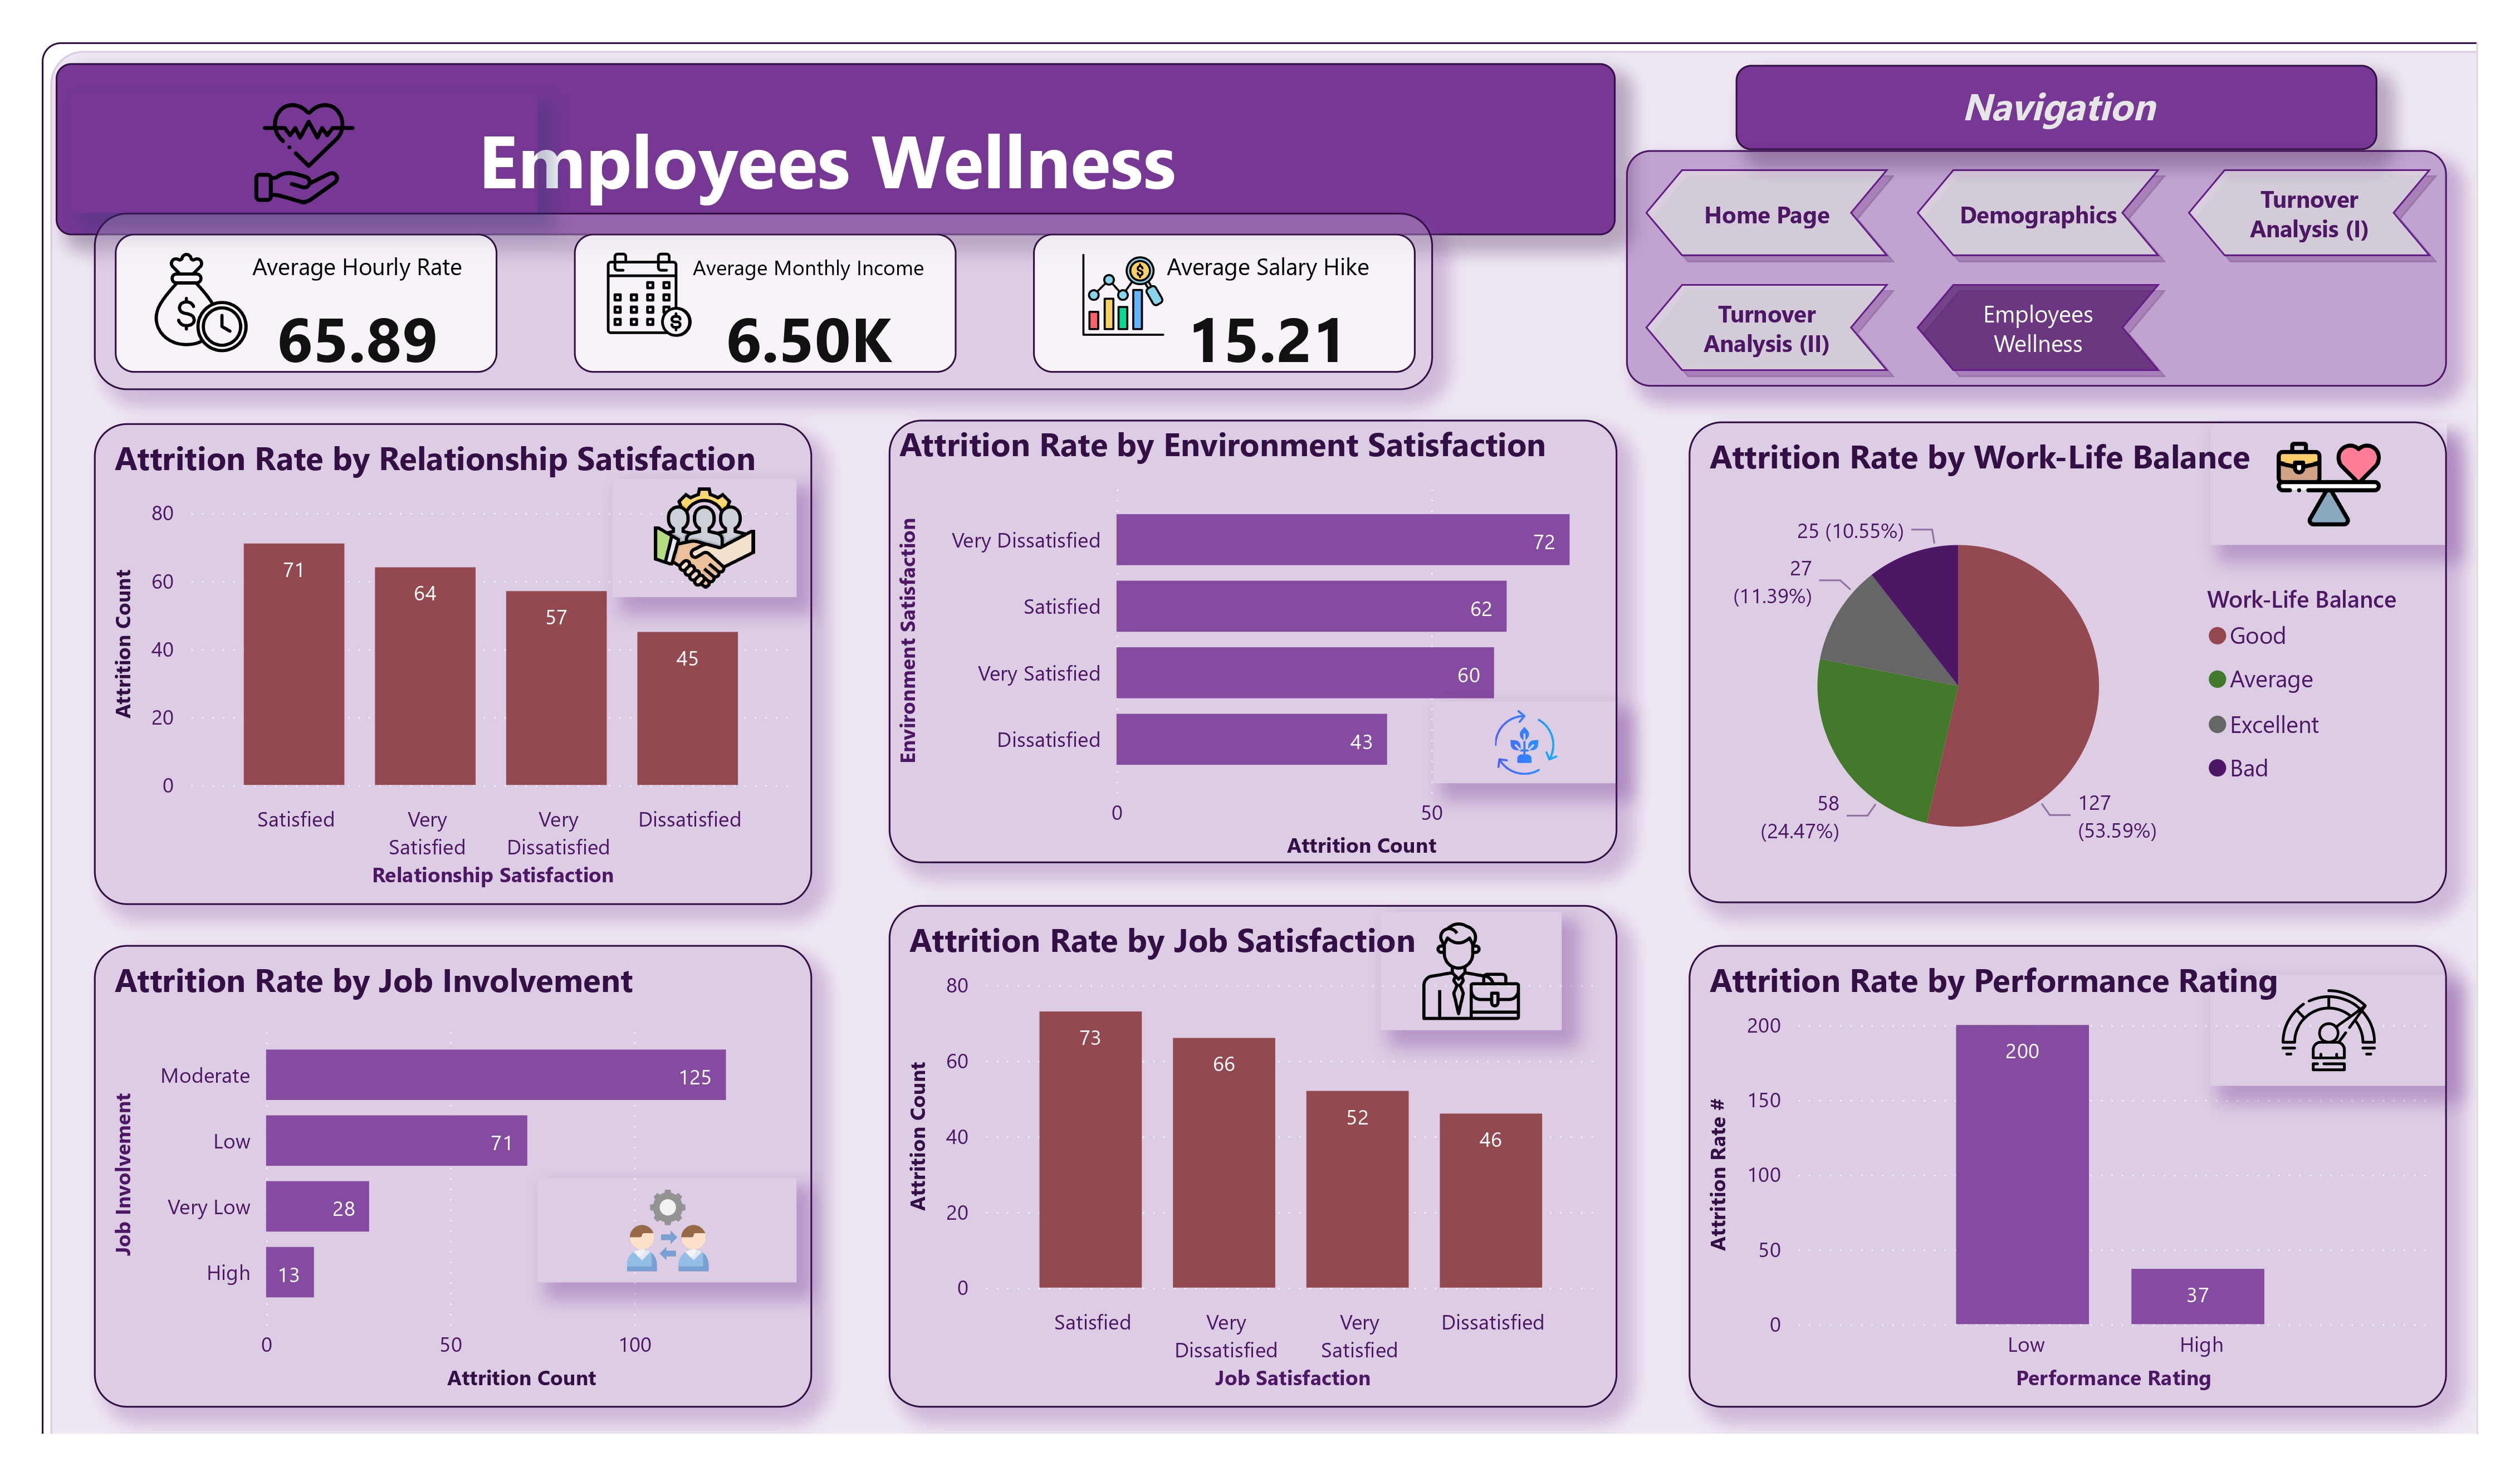

The dashboard page shown, as its layout file describes it:
{"tool":"powerbi","page":{"name":"Employees Wellness","canvas":[1400,800],"ordinal":5},"visuals":[{"type":"shape","box":[0,0,1450.5,850.5],"z":0},{"type":"textbox","box":[8,11.9,897.1,99.5],"z":1000},{"type":"pageNavigator","box":[910.6,61.7,472.3,136.2],"z":2000},{"type":"cardVisual","fields":{"Data":["HR-Employee-Attrition.Average Hourly Rate","HR-Employee-Attrition.Average Monthly Income","HR-Employee-Attrition.Average Salary Hike"]},"box":[29.8,97.9,770.2,102.1],"z":3000},{"type":"image","box":[17,29.8,268.1,68.1],"z":4000},{"type":"clusteredColumnChart","title":"Attrition Rate by Relationship Satisfaction","fields":{"Y":["HR-Employee-Attrition.Attrition Rate #"],"Category":["HR-Employee-Attrition.RelationshipSatisfaction (groups)"]},"box":[29.8,219.1,412.8,276.6],"z":5000},{"type":"clusteredBarChart","title":"Attrition Rate by Job Involvement","fields":{"Category":["HR-Employee-Attrition.JobInvolvement (groups)"],"Y":["HR-Employee-Attrition.Attrition Rate #"]},"box":[29.8,519.1,412.8,266],"z":6000},{"type":"columnChart","title":"Attrition Rate by Job Satisfaction","fields":{"Y":["HR-Employee-Attrition.Attrition Rate #"],"Category":["HR-Employee-Attrition.JobSatisfaction (groups)"]},"box":[487.2,495.7,419.1,289.4],"z":7000},{"type":"clusteredBarChart","title":"Attrition Rate by Environment Satisfaction","fields":{"Category":["HR-Employee-Attrition.EnvironmentSatisfaction (groups)"],"Y":["HR-Employee-Attrition.Attrition Rate #"]},"box":[487.2,217,419.1,255.3],"z":8000},{"type":"pieChart","title":"Attrition Rate by Work-Life Balance","fields":{"Category":["HR-Employee-Attrition.WorkLifeBalance (groups)"],"Y":["HR-Employee-Attrition.Attrition Rate #"]},"box":[946.7,218.3,436.7,276.7],"z":9000},{"type":"columnChart","title":"Attrition Rate by Performance Rating","fields":{"Category":["HR-Employee-Attrition.PerformanceRating (groups)"],"Y":["HR-Employee-Attrition.Attrition Rate #"]},"box":[946.8,519.1,436.2,266],"z":10000},{"type":"image","box":[327.7,251.1,106.4,68.1],"z":11000},{"type":"image","box":[800,378.7,106.4,46.8],"z":12000},{"type":"image","box":[1246.8,219.1,136.2,70.2],"z":13000},{"type":"image","box":[1246.8,536.2,136.2,63.8],"z":14000},{"type":"image","box":[285.1,653.2,148.9,59.6],"z":15000},{"type":"image","box":[770.2,500,104.3,68.1],"z":16000},{"type":"textbox","box":[974.5,12.8,368.1,48.9],"z":17000}]}

Visuals, with their boxes on the page's 1400x800 design canvas (x1, y1, x2, y2). These are canvas units, not pixel positions in the 2520x1476 screenshot, which may show the page scaled, cropped or inside an application window:
shape: <region>0, 0, 1450, 850</region>
textbox: <region>8, 12, 905, 111</region>
pageNavigator: <region>911, 62, 1383, 198</region>
cardVisual - HR-Employee-Attrition.Average Hourly Rate x HR-Employee-Attrition.Average Monthly Income: <region>30, 98, 800, 200</region>
image: <region>17, 30, 285, 98</region>
"Attrition Rate by Relationship Satisfaction" clusteredColumnChart: <region>30, 219, 443, 496</region>
"Attrition Rate by Job Involvement" clusteredBarChart: <region>30, 519, 443, 785</region>
"Attrition Rate by Job Satisfaction" columnChart: <region>487, 496, 906, 785</region>
"Attrition Rate by Environment Satisfaction" clusteredBarChart: <region>487, 217, 906, 472</region>
"Attrition Rate by Work-Life Balance" pieChart: <region>947, 218, 1383, 495</region>
"Attrition Rate by Performance Rating" columnChart: <region>947, 519, 1383, 785</region>
image: <region>328, 251, 434, 319</region>
image: <region>800, 379, 906, 426</region>
image: <region>1247, 219, 1383, 289</region>
image: <region>1247, 536, 1383, 600</region>
image: <region>285, 653, 434, 713</region>
image: <region>770, 500, 874, 568</region>
textbox: <region>974, 13, 1343, 62</region>
